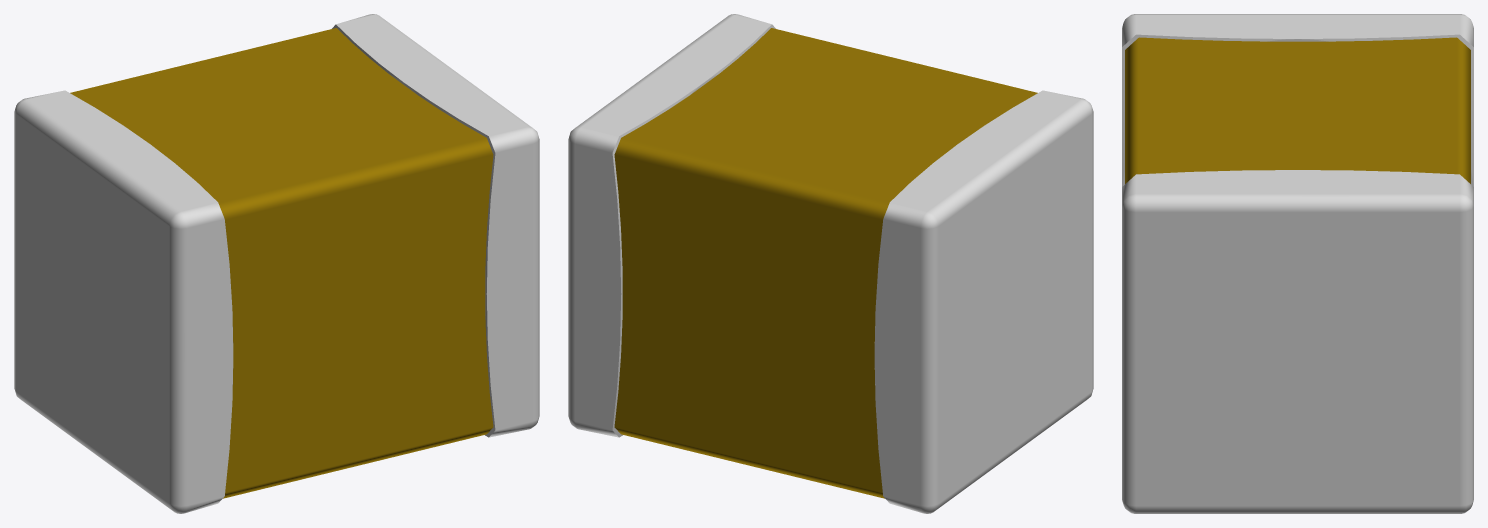
File: Samwha_Capacitor_CS3225X7R106K500NRL.3dmodel.glb
The picture shows the model from 3 angles, left to right: view 1: azimuth 30°, elevation 25°; view 2: azimuth 150°, elevation 25°; view 3: azimuth 270°, elevation 25°; orthographic projection. The views are drawn at different scales.
Visible parts, largest first — view 1: =>[0:1:1:1]; view 2: =>[0:1:1:1]; view 3: =>[0:1:1:1].
Boxes of the visible parts, box(x1,y1,x2,y2) form: =>[0:1:1:1]: box(14, 14, 539, 513); =>[0:1:1:1]: box(568, 14, 1093, 513); =>[0:1:1:1]: box(1122, 14, 1473, 513).
Size of the model in its own units: 3.2 by 2.5 by 2.5.
